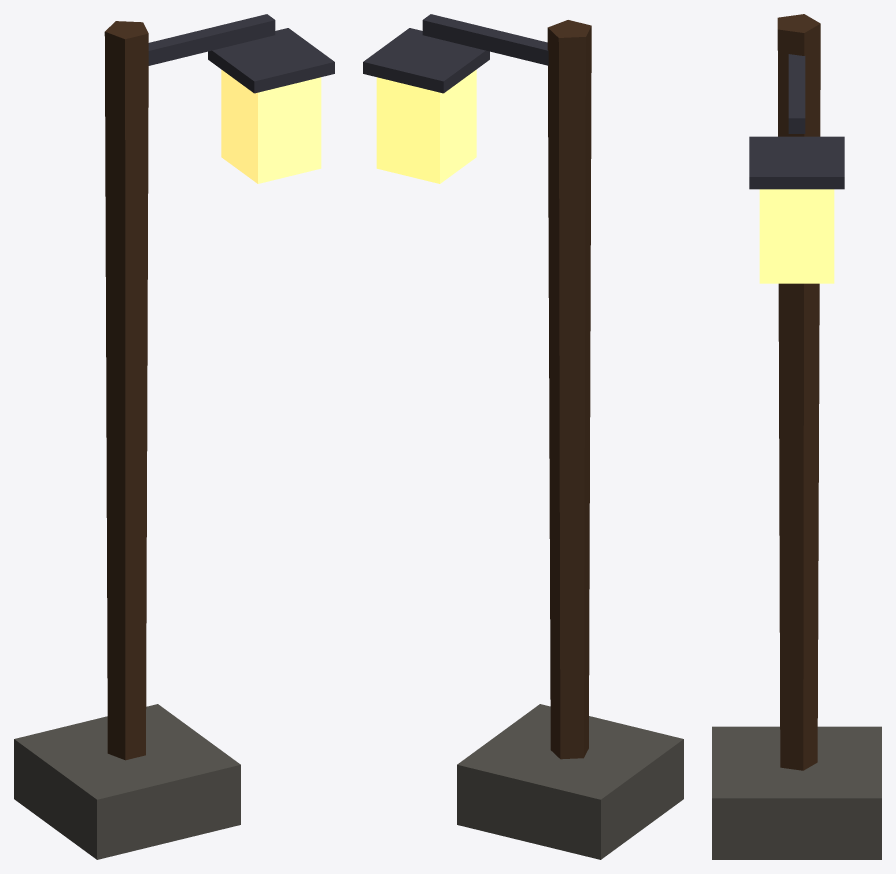
File: soegol_lantern_post.glb
3 views of the same model, side by side, from view 1: azimuth 30°, elevation 25°; view 2: azimuth 150°, elevation 25°; view 3: azimuth 270°, elevation 25° (orthographic). The views are drawn at different scales.
Parts seen in each view (by area): view 1: soegol_lantern_post; view 2: soegol_lantern_post; view 3: soegol_lantern_post.
Part boxes in pixels (x1,y1,x2,y2): soegol_lantern_post: (14,14,334,859); soegol_lantern_post: (363,14,683,859); soegol_lantern_post: (712,14,881,859).
Bounding box in the file's own units: 0.89 × 2.6 × 0.5.
